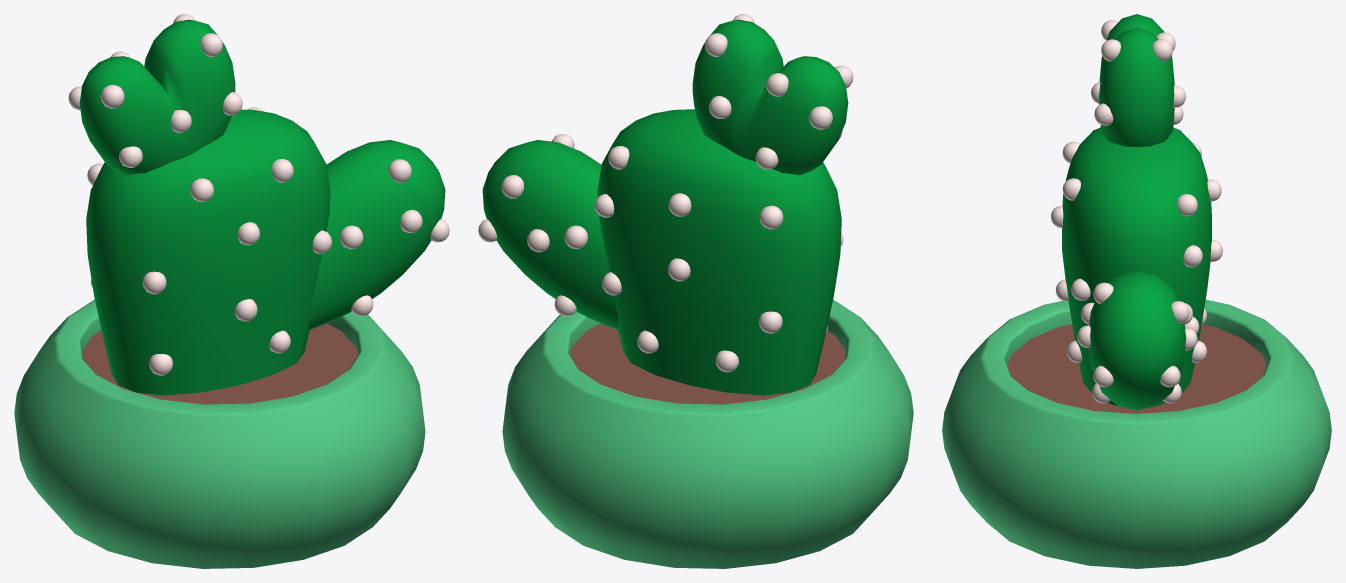
Rendered from City_20_Cactus_4.glb.
The picture shows the model from 3 angles, left to right: view 1: azimuth 30°, elevation 25°; view 2: azimuth 150°, elevation 25°; view 3: azimuth 270°, elevation 25°; orthographic projection. The views are drawn at different scales.
Visible parts, largest first — view 1: City_20_Cactus_4; view 2: City_20_Cactus_4; view 3: City_20_Cactus_4.
Boxes of the visible parts, box(x1,y1,x2,y2) form: City_20_Cactus_4: box(14, 14, 449, 568); City_20_Cactus_4: box(478, 14, 913, 568); City_20_Cactus_4: box(942, 14, 1331, 568).
Bounding box in the file's own units: 0.7462 × 0.8687 × 0.6699.
Materials: 1 (1 with a texture image).
